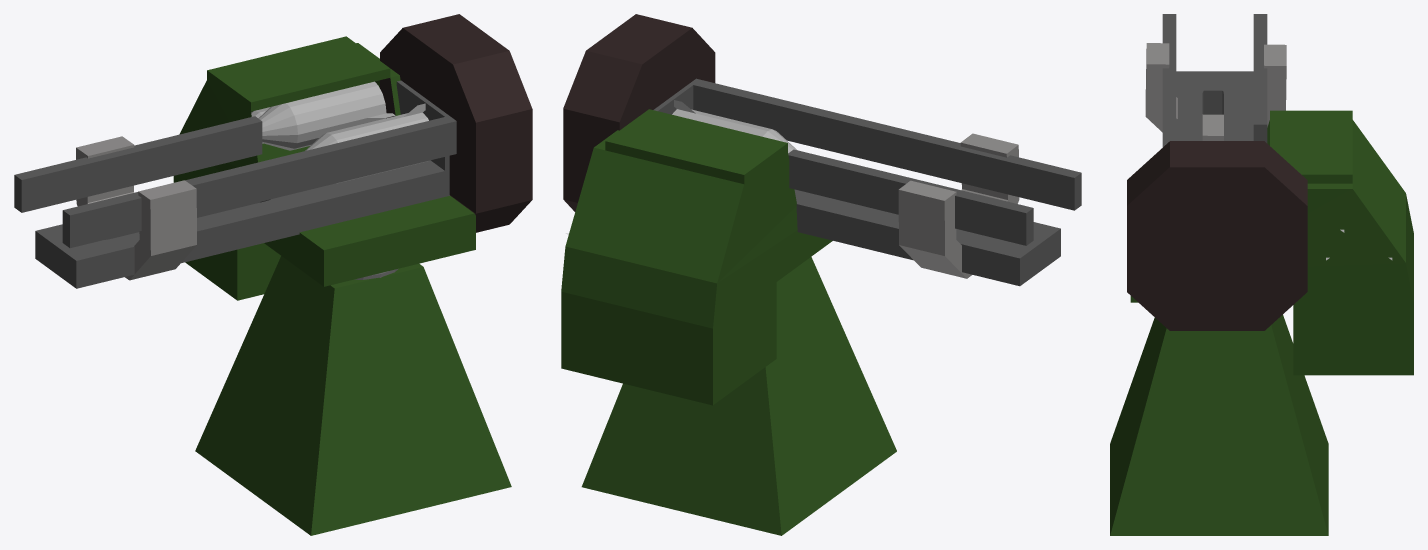
Rendered from roccet_turel.glb.
The picture shows the model from 3 angles, left to right: view 1: azimuth 30°, elevation 25°; view 2: azimuth 150°, elevation 25°; view 3: azimuth 270°, elevation 25°; orthographic projection. The views are drawn at different scales.
Parts seen in each view (by area): view 1: Куб, Куб.002, Куб.001, Куб.004, Цилиндр.002, Цилиндр.004, Цилиндр; view 2: Куб.001, Куб, Куб.002, Куб.004, Цилиндр.002, Цилиндр; view 3: Куб, Куб.004, Куб.001, Куб.002, Цилиндр.002.
Boxes of the visible parts, x1,y1,x2,y2 form: Куб: (195,256,511,535); Куб.002: (14,80,456,288); Куб.001: (173,36,475,300); Куб.004: (380,14,532,232); Цилиндр.002: (76,136,196,280); Цилиндр.004: (258,81,395,150); Цилиндр: (305,103,428,183); Куб.001: (561,109,832,405); Куб: (581,257,896,535); Куб.002: (653,78,1081,286); Куб.004: (563,14,715,211); Цилиндр.002: (898,133,1019,278); Цилиндр: (672,100,797,153); Куб: (1110,314,1328,535); Куб.004: (1127,141,1307,330); Куб.001: (1130,110,1413,375); Куб.002: (1162,14,1267,147); Цилиндр.002: (1145,43,1286,140).
Bounding box in the file's own units: 1.54 × 1.35 × 0.9688.
6 materials, 1 textured.
